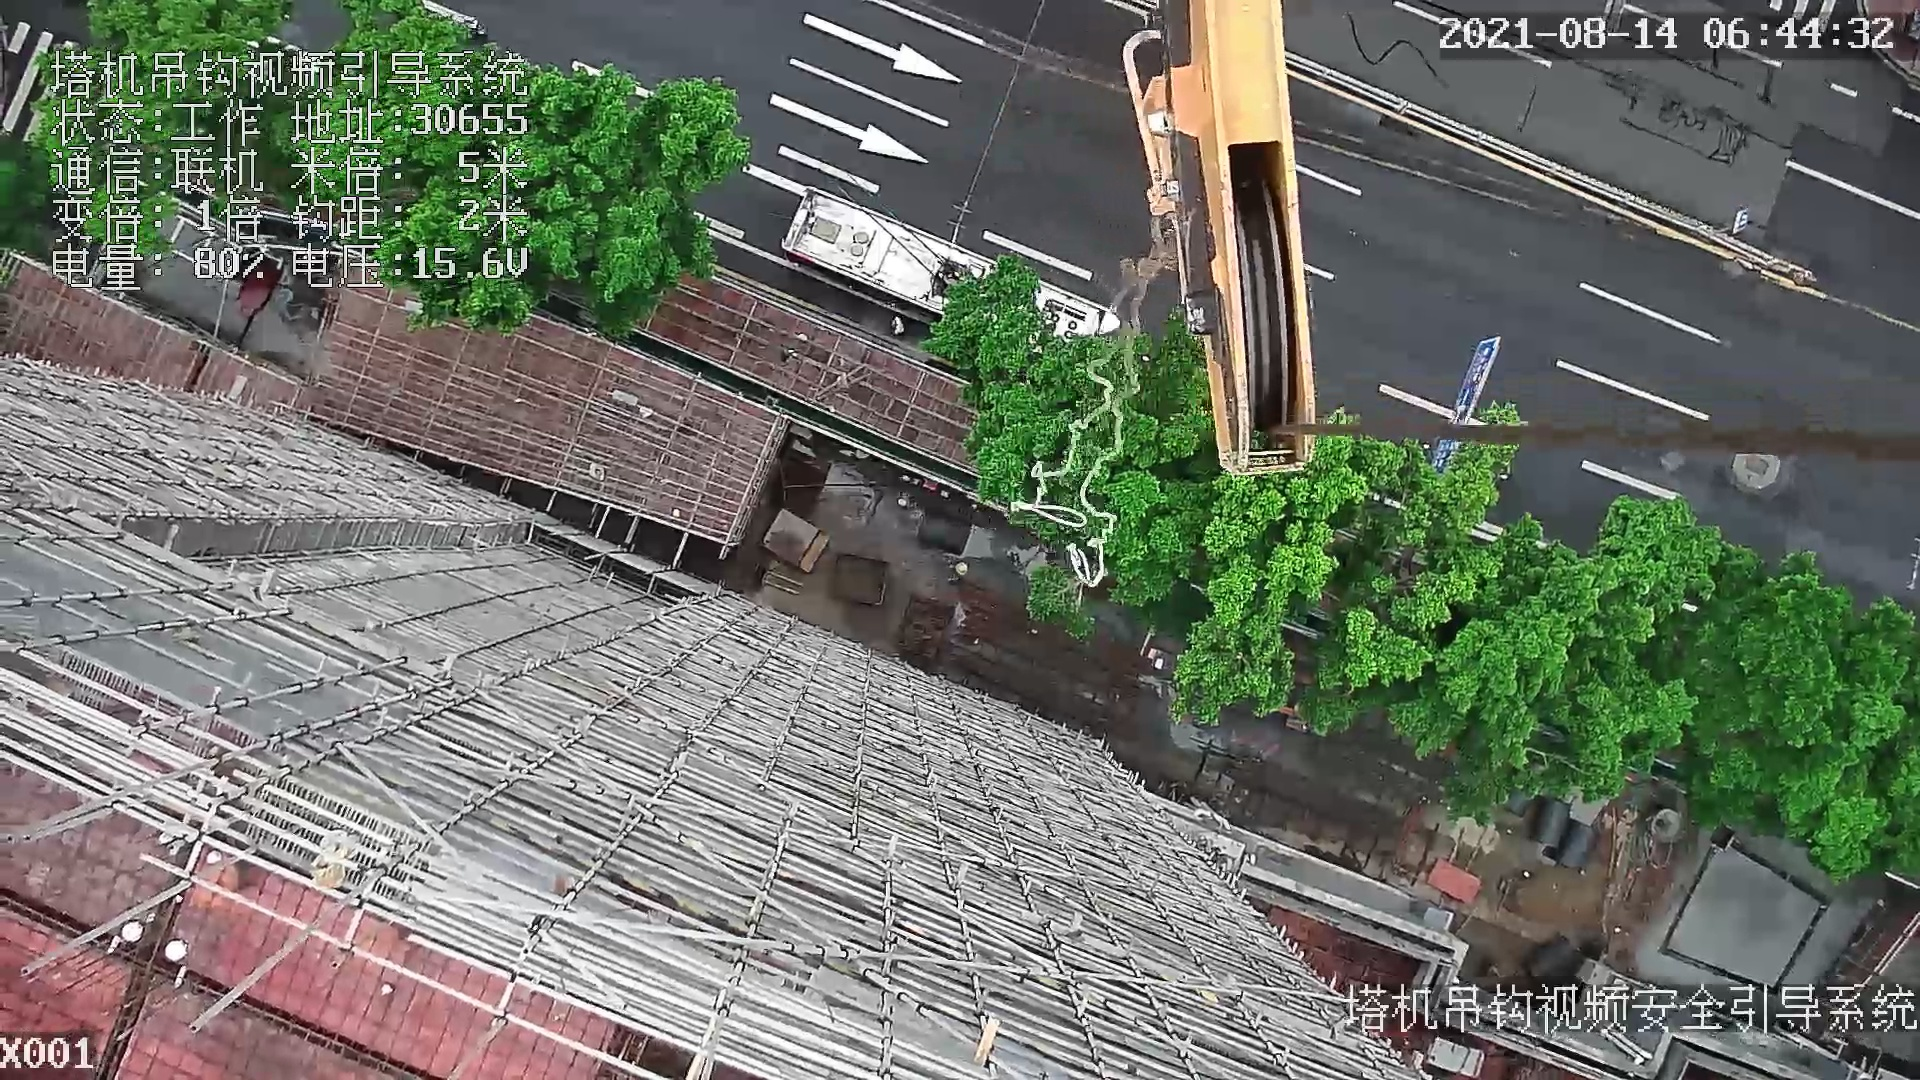hook: (1104, 10, 1327, 478)
person: (887, 315, 906, 341)
